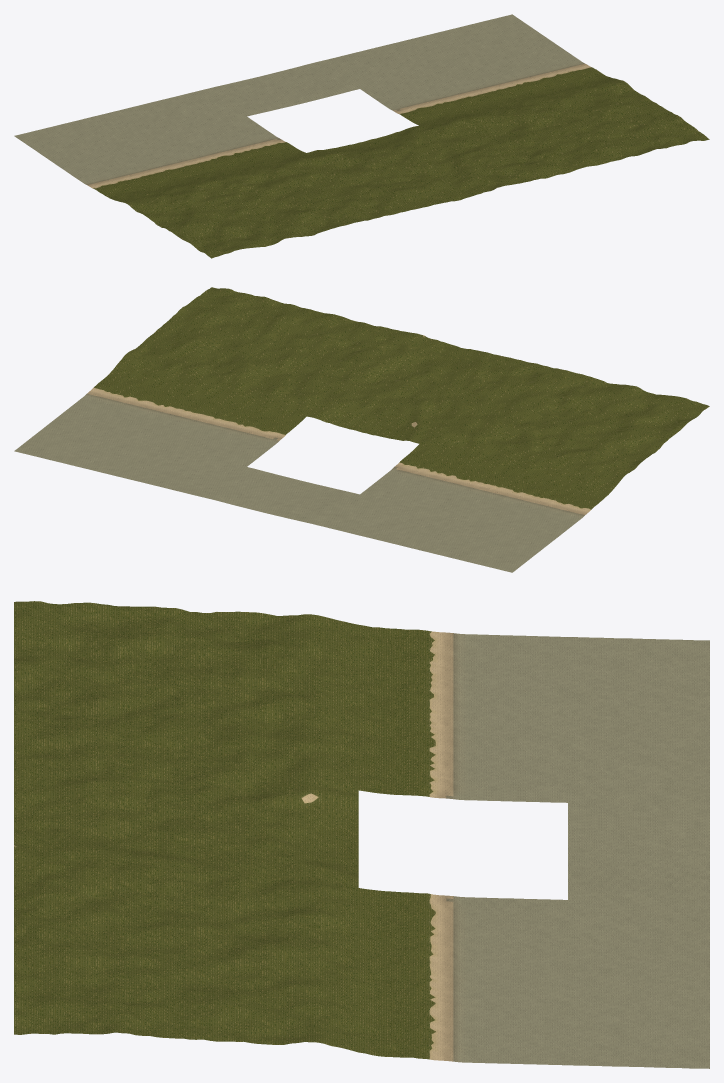
Rendered from tidewater_backdrop.glb.
The picture shows the model from 3 angles, top to bottom: view 1: azimuth 30°, elevation 25°; view 2: azimuth 150°, elevation 25°; view 3: azimuth 270°, elevation 25°; orthographic projection. The views are drawn at different scales.
Parts seen in each view (by area): view 1: tw_backdrop; view 2: tw_backdrop; view 3: tw_backdrop.
Boxes of the visible parts, <box> form: tw_backdrop: <box>14,14,709,258</box>; tw_backdrop: <box>14,287,709,572</box>; tw_backdrop: <box>14,601,709,1068</box>.
Bounding box in the file's own units: 1800 × 85.04 × 1236.
Materials: 3 (3 with a texture image).
